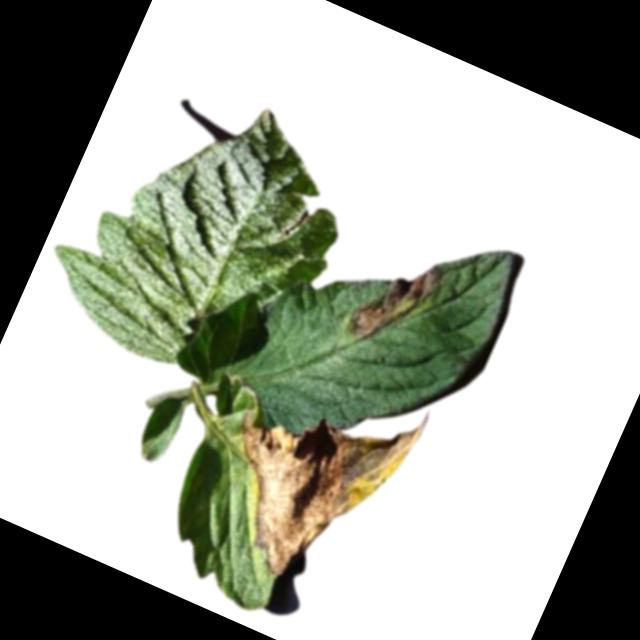Late_blight: (188, 344, 434, 610), (342, 244, 447, 362)
